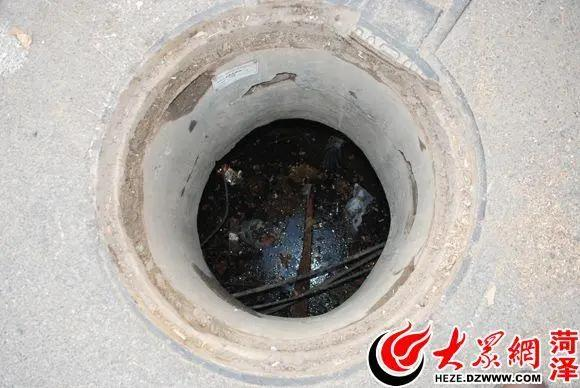wellcover: (98, 27, 452, 346)
